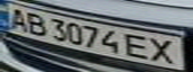0: (63, 20, 84, 46)
3: (45, 16, 69, 43)
4: (100, 27, 124, 55)
7: (81, 24, 103, 49)
A: (3, 6, 30, 31)
B: (21, 11, 51, 37)
E: (121, 32, 154, 61)
X: (145, 35, 184, 65)
